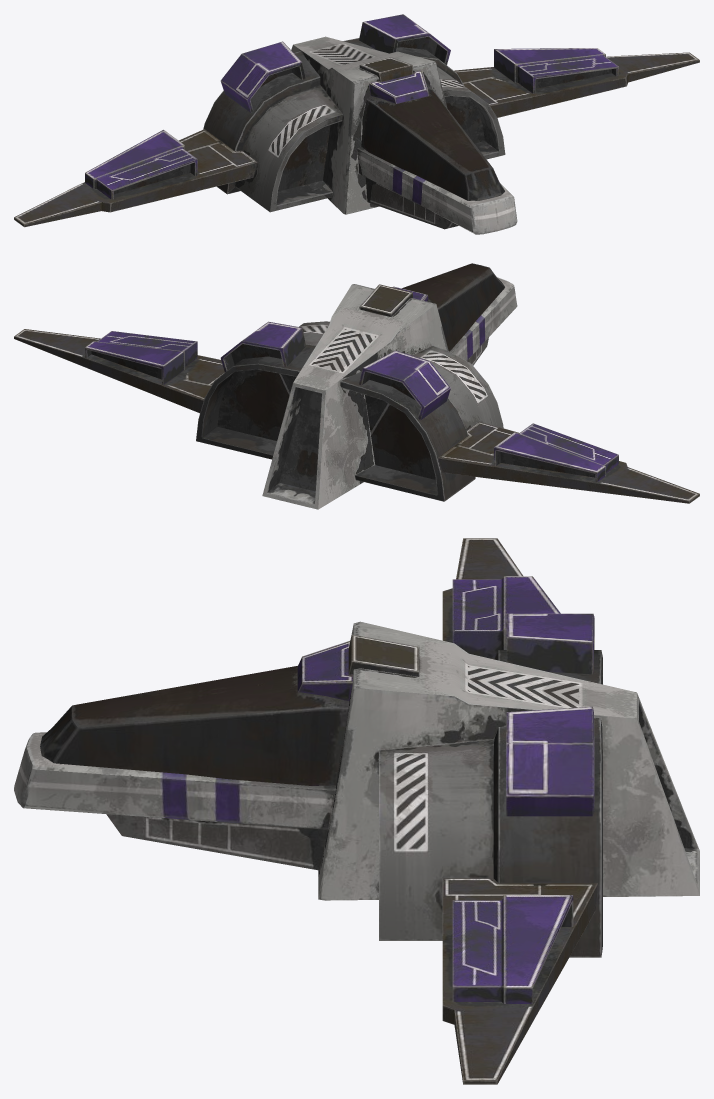
The model's file is bob_purple.glb.
3 renders of one model, top to bottom at view 1: azimuth 30°, elevation 25°; view 2: azimuth 150°, elevation 25°; view 3: azimuth 270°, elevation 25°, orthographic. The views are drawn at different scales.
Visible parts, largest first — view 1: bob; view 2: bob; view 3: bob.
Part boxes in pixels (x1,y1,x2,y2): bob: (14,14,699,234); bob: (14,263,699,509); bob: (14,538,699,1084).
Size of the model in its own units: 10.5 by 2.04 by 5.61.
Materials: 1 (1 with a texture image).
